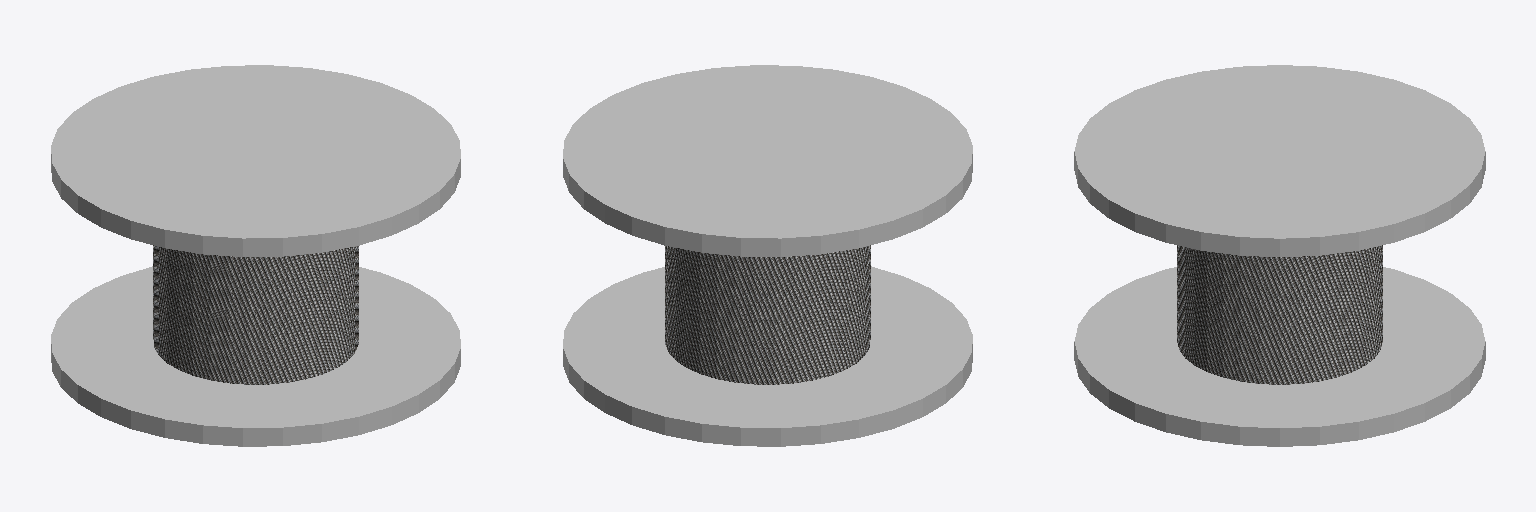
3 views of the same model, side by side, from view 1: azimuth 30°, elevation 25°; view 2: azimuth 150°, elevation 25°; view 3: azimuth 270°, elevation 25° (orthographic).
Visible parts, largest first — view 1: Cylinder.001, Cylinder.002, Cylinder; view 2: Cylinder.001, Cylinder.002, Cylinder; view 3: Cylinder.001, Cylinder.002, Cylinder.
Boxes of the visible parts, x1,y1,x2,y2 form: Cylinder.001: [51, 65, 460, 256]; Cylinder.002: [51, 266, 460, 446]; Cylinder: [153, 245, 358, 384]; Cylinder.001: [563, 65, 972, 256]; Cylinder.002: [563, 266, 972, 446]; Cylinder: [665, 245, 870, 384]; Cylinder.001: [1074, 65, 1485, 256]; Cylinder.002: [1074, 267, 1485, 446]; Cylinder: [1177, 245, 1382, 384].
Size of the model in its own units: 2 by 1.12 by 2.
2 materials, 1 textured.